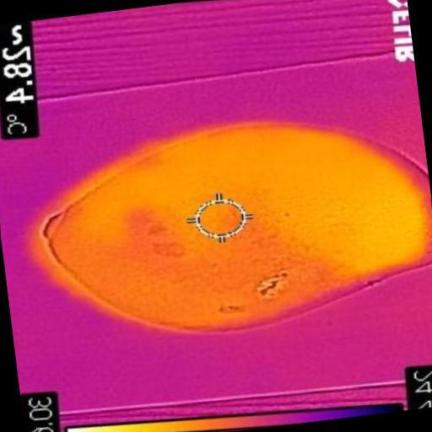mango: (45, 123, 432, 327)
